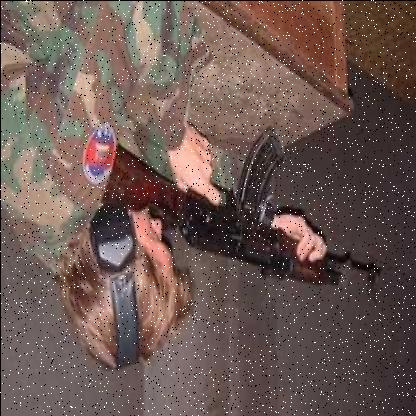rifle: (104, 132, 386, 308)
